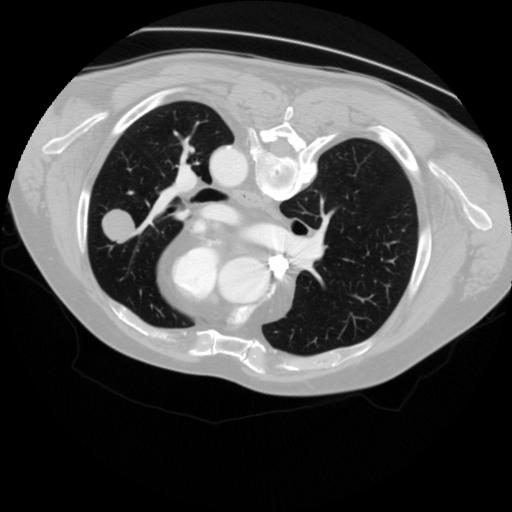nodule: (96, 204, 143, 251)
